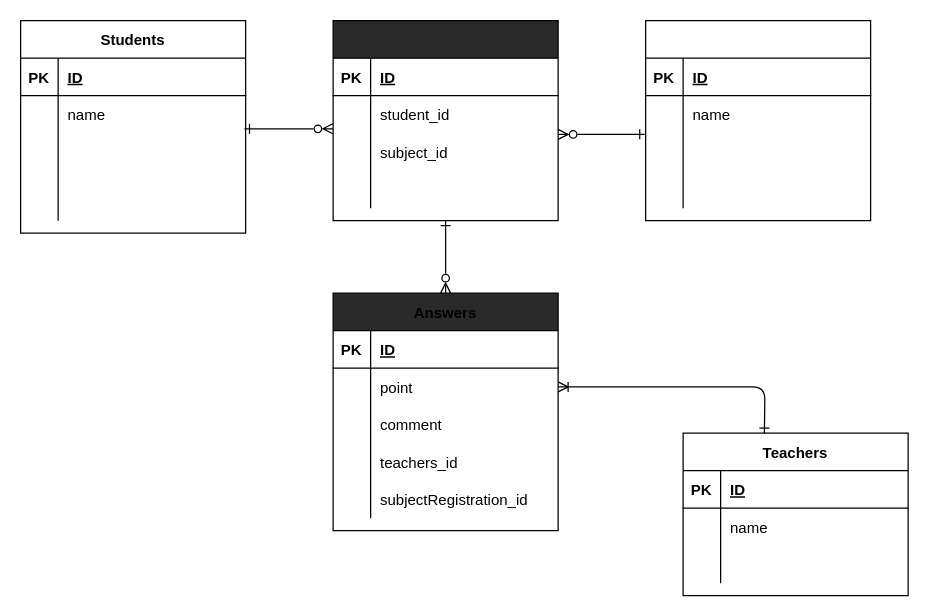
The diagram is 929 pixels wide and 616 high, and some of its shapes have lost their labels. The box of each missing label's shape, as (x1, y1, x2, y2) in pixels:
subjectRegistrations: (332, 19, 558, 221)
Subjects: (644, 19, 871, 221)
